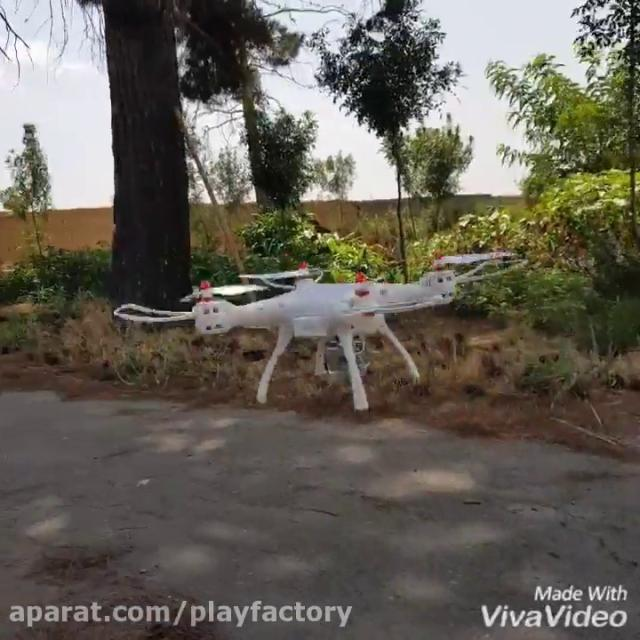drone: (109, 242, 527, 410)
